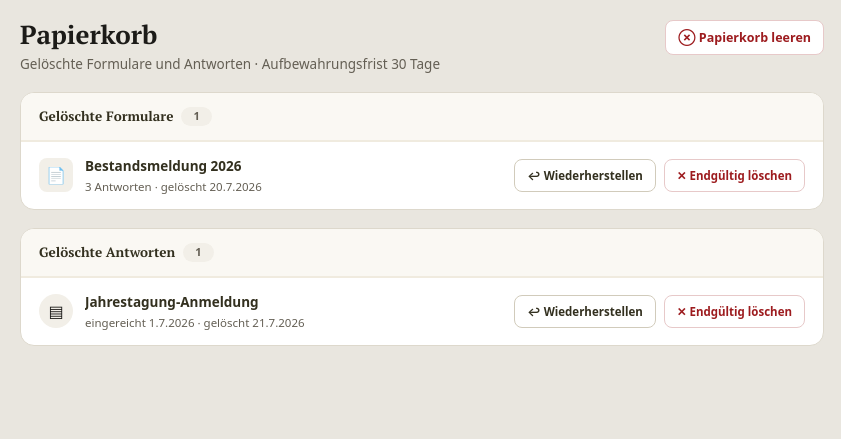
Test: TrashView › mit canPurge › endgültig löscht one answer, keeping the form row untouched
The image size is (841, 439).
Click the button with test id "^trash-purge-" at (734, 311), box left=664, top=295, right=805, bottom=328
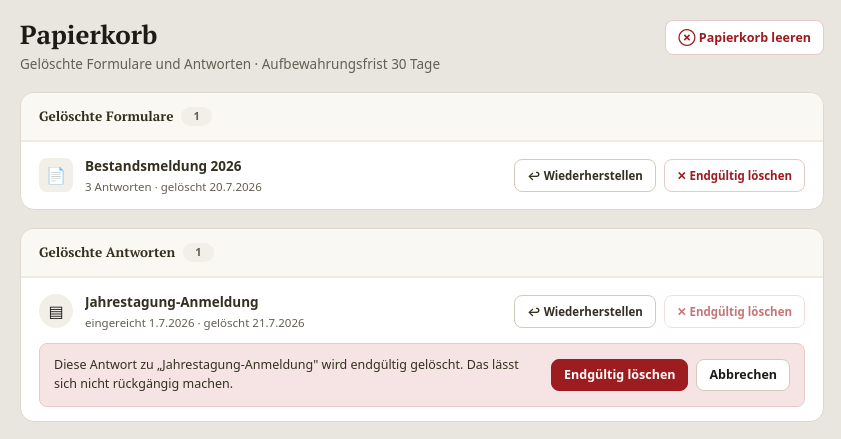
Click the button "Endgültig löschen" at (620, 375), box left=551, top=358, right=688, bottom=391
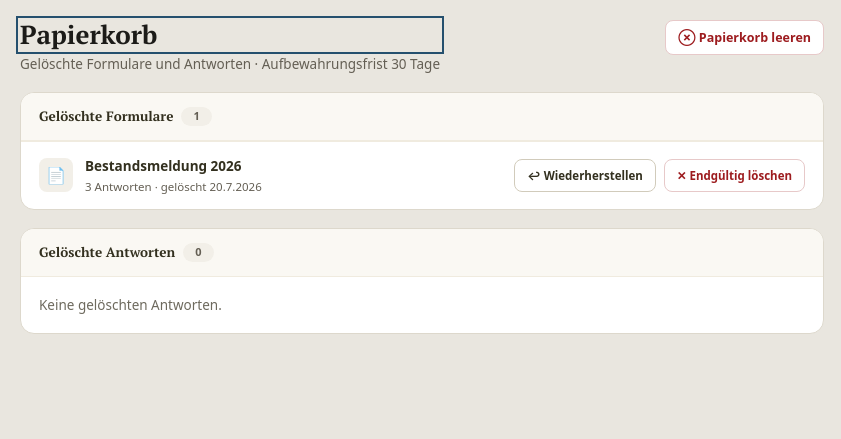
expect the text "Bestandsmeldung 2026" is shown: met, box left=85, top=157, right=242, bottom=175
expect the text "Jahrestagung-Anmeldung" is gone: met
expect the text with test id "trash-responses-count" reads "0": met, box left=195, top=244, right=202, bottom=259
